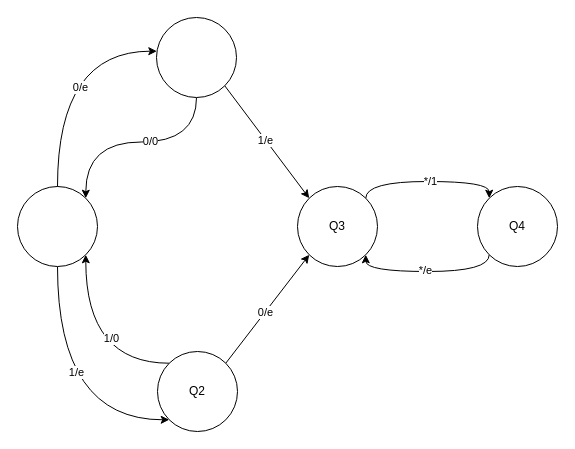
Image size: 575x449. Some labels were removed from this diagram. Here are the shapes that lost their labels. From the top down, the centre of each, then its label:
At (x=196, y=57): "Q1".
At (x=57, y=226): "Q0".
